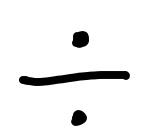div: (19, 31, 130, 125)
